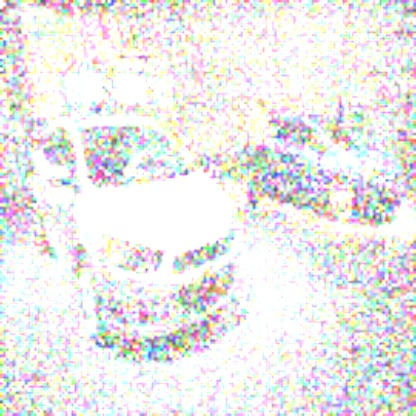Vehicle: (31, 114, 242, 348)
